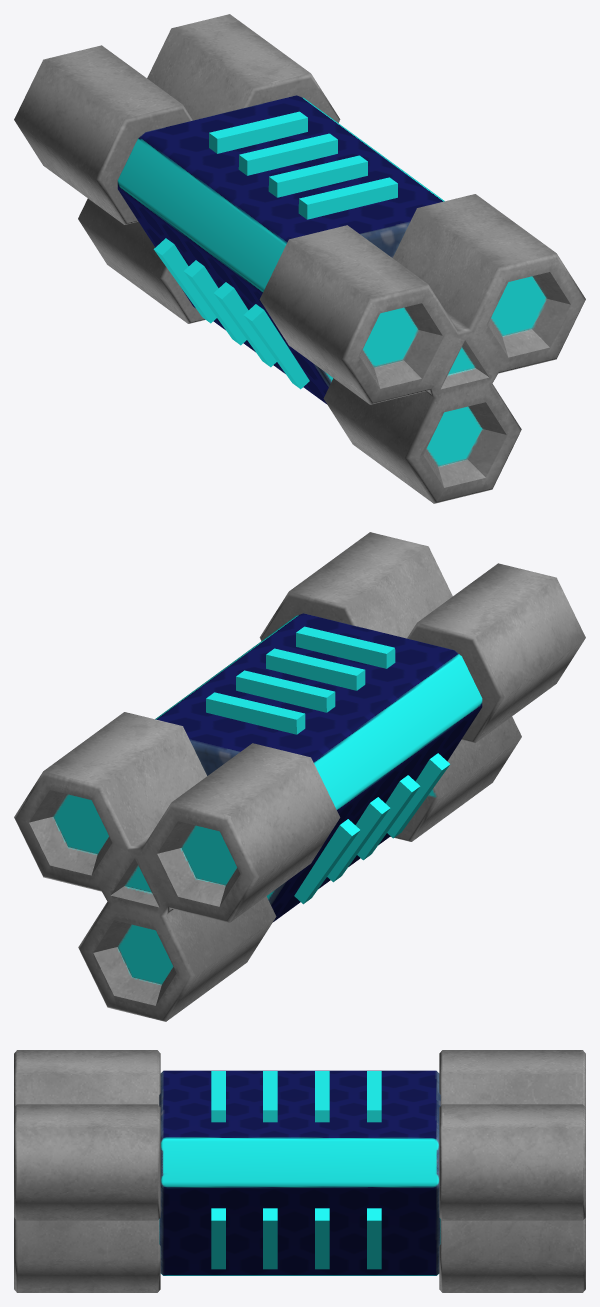
Rendered from SM_Props_28.fbx.
3 views of the same model, one above another, from view 1: azimuth 30°, elevation 25°; view 2: azimuth 150°, elevation 25°; view 3: azimuth 270°, elevation 25° (orthographic). The views are drawn at different scales.
Parts seen in each view (by area): view 1: SM_Props_28; view 2: SM_Props_28; view 3: SM_Props_28.
Part boxes in pixels (box(x1,y1,x2,y2)): SM_Props_28: box(14, 14, 585, 503); SM_Props_28: box(14, 532, 585, 1021); SM_Props_28: box(14, 1050, 585, 1292).
Size of the model in its own units: 36.08 by 84.21 by 31.03.
Materials: 1 (1 with a texture image).
